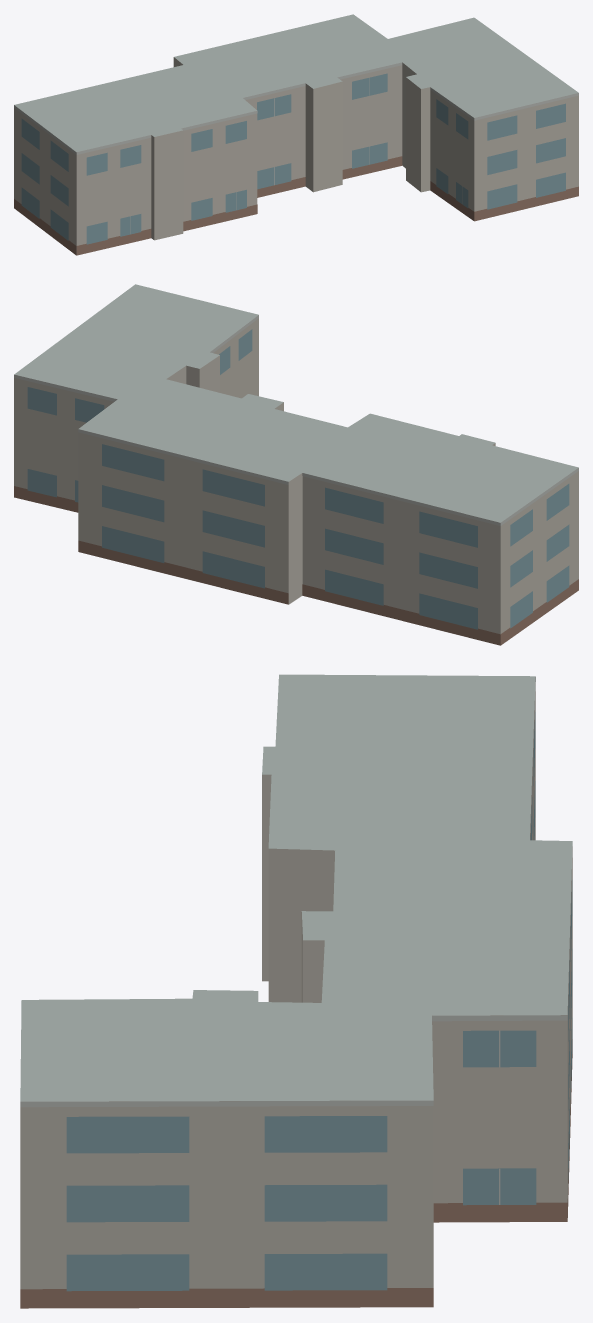
The model's file is survey-upis-32770450.glb.
The picture shows the model from 3 angles, top to bottom: view 1: azimuth 30°, elevation 25°; view 2: azimuth 150°, elevation 25°; view 3: azimuth 270°, elevation 25°; orthographic projection. The views are drawn at different scales.
Visible parts, largest first — view 1: survey-upis-32770450.tmp; view 2: survey-upis-32770450.tmp; view 3: survey-upis-32770450.tmp.
Part boxes in pixels (x1,y1,x2,y2): survey-upis-32770450.tmp: (14,14,578,255); survey-upis-32770450.tmp: (14,284,578,645); survey-upis-32770450.tmp: (20,674,572,1308).
Bounding box in the file's own units: 40.57 × 9.15 × 22.17.
